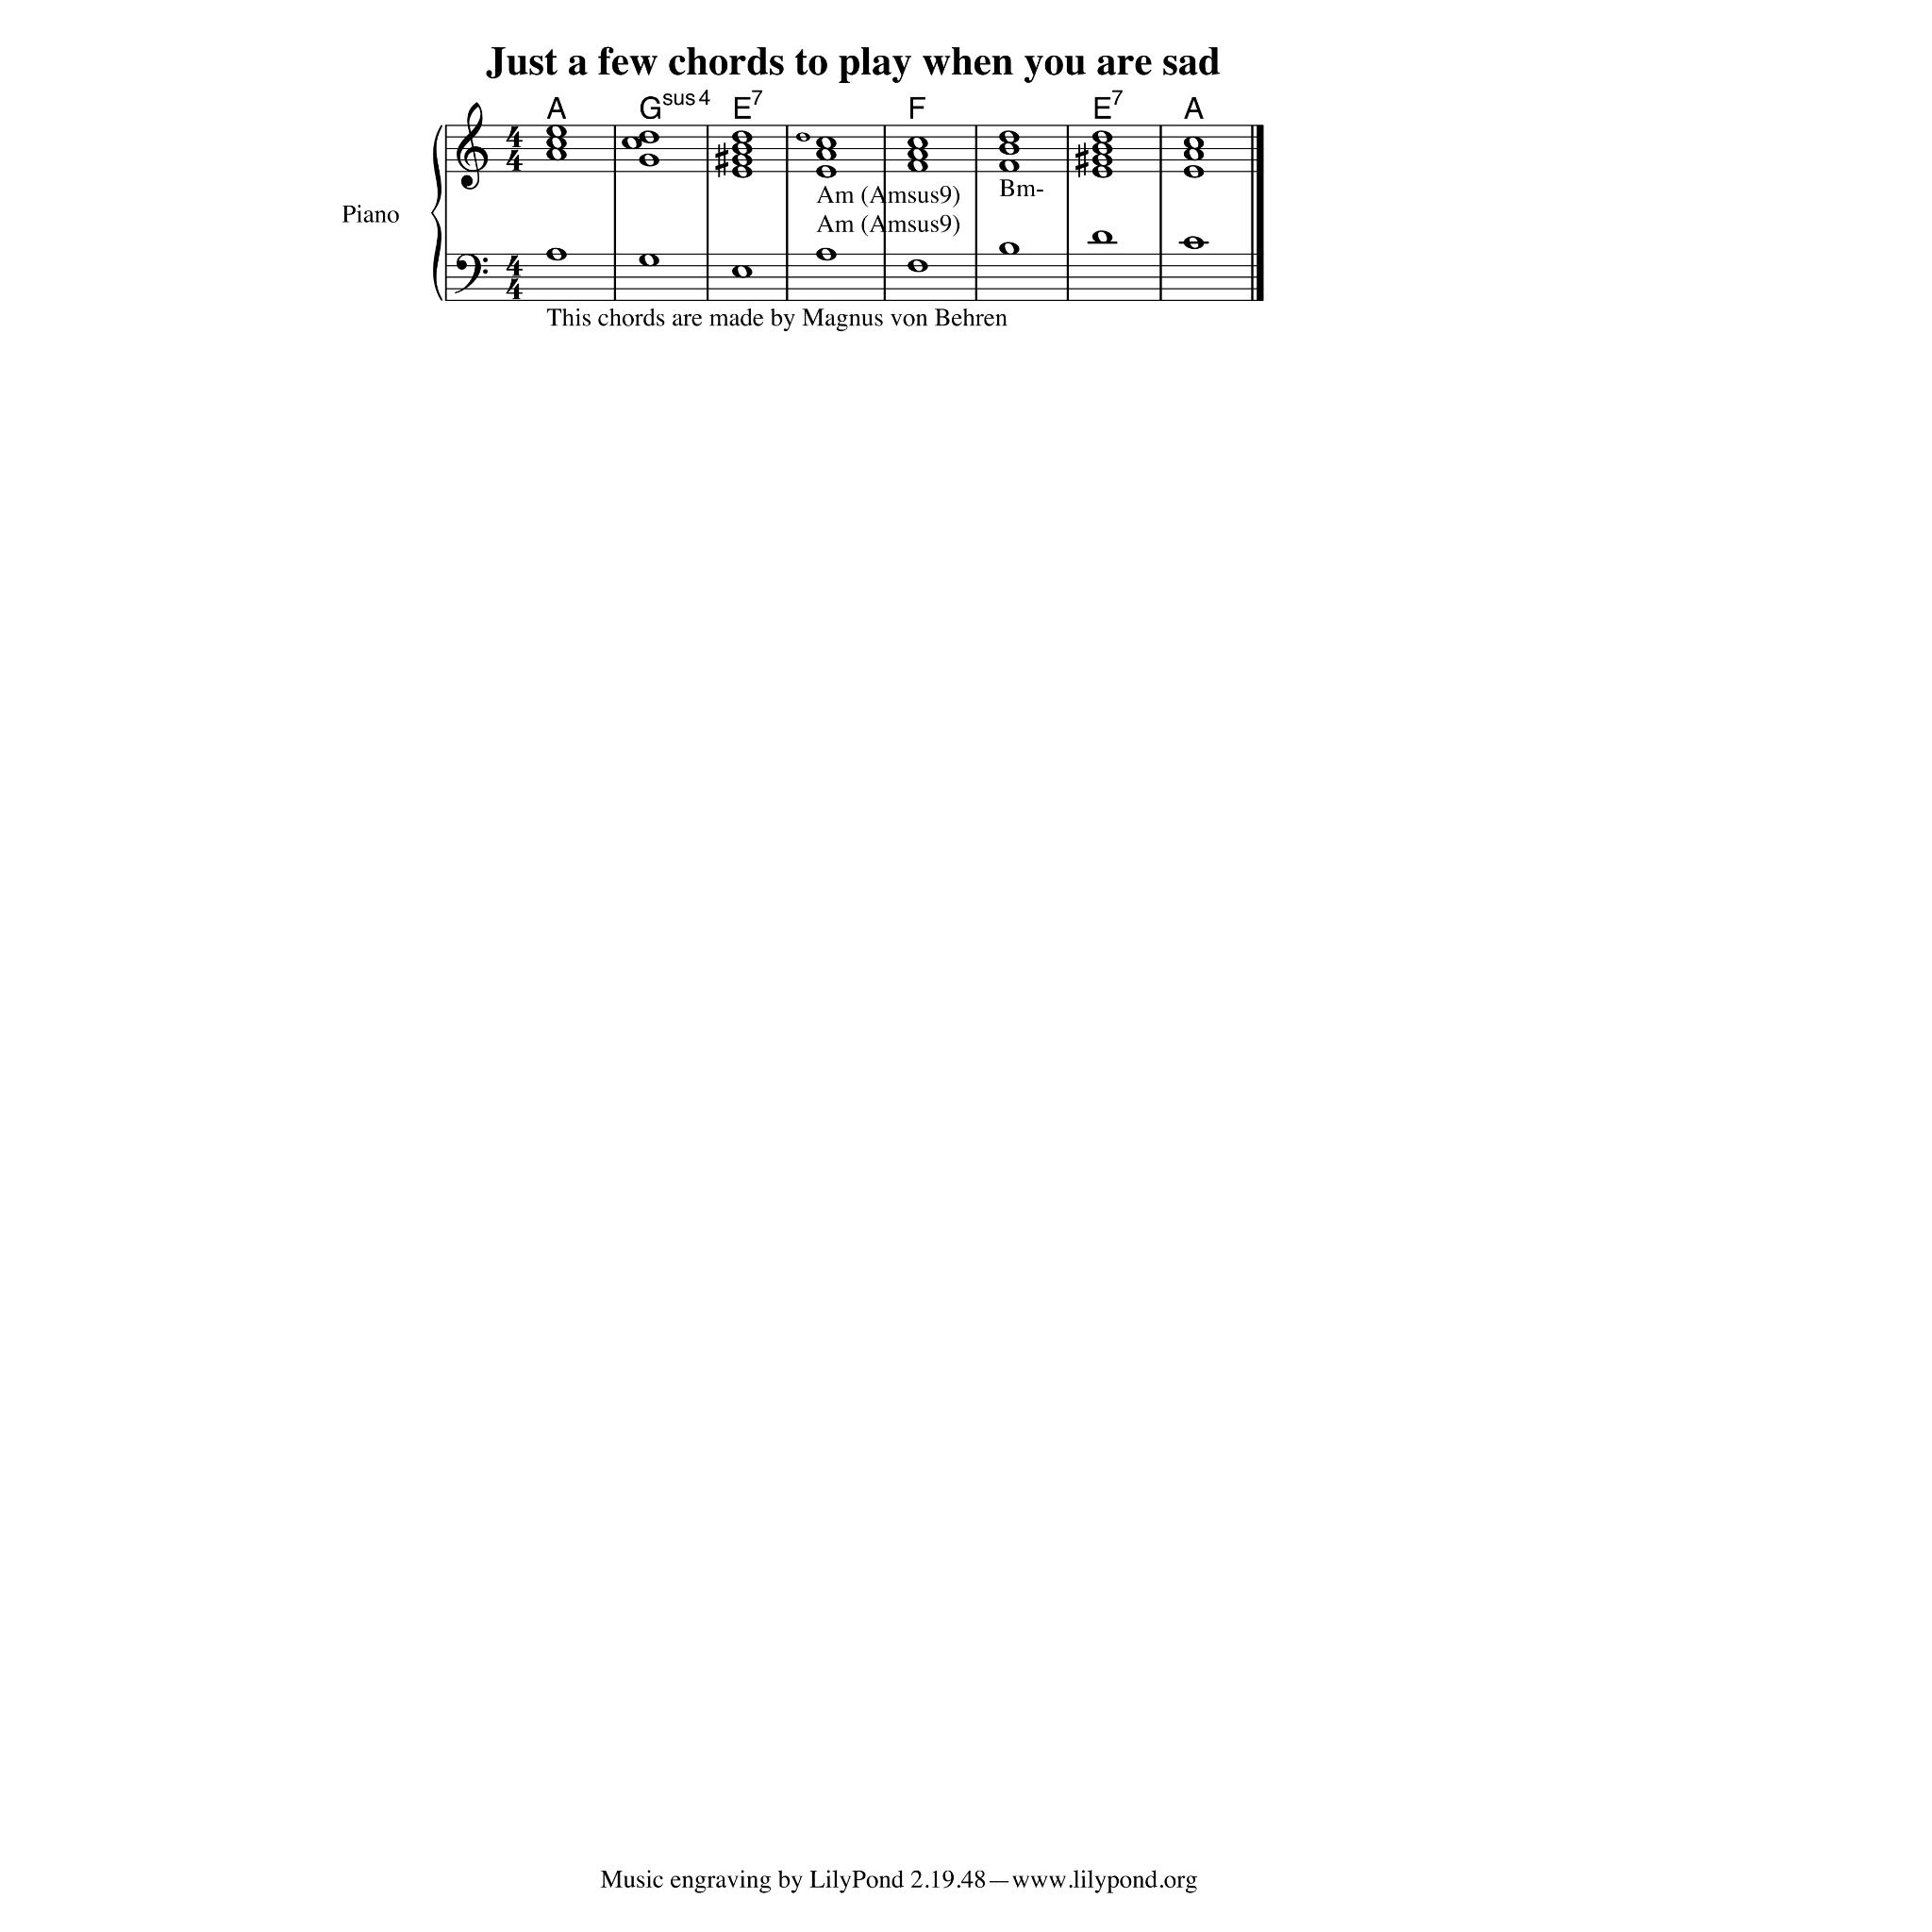brace: (430, 125, 441, 302)
fClef: (454, 255, 488, 294)
gClef: (456, 102, 488, 191)
noteheadWhole: (1091, 164, 1113, 179), (906, 258, 928, 274), (906, 136, 928, 151), (906, 147, 928, 162), (906, 158, 928, 174), (998, 130, 1021, 145), (998, 158, 1021, 174), (1091, 230, 1113, 245), (1091, 130, 1113, 145), (621, 136, 643, 151), (638, 130, 660, 145), (730, 164, 753, 179), (545, 136, 568, 151), (545, 147, 568, 162), (545, 247, 568, 262), (815, 247, 838, 262), (815, 136, 838, 151), (815, 147, 838, 162), (815, 164, 838, 179), (730, 264, 753, 279), (730, 130, 753, 145), (1183, 164, 1204, 179), (1183, 147, 1204, 162), (1183, 136, 1204, 151), (1183, 236, 1204, 251), (998, 242, 1021, 256), (998, 142, 1021, 156), (1091, 142, 1113, 156), (1091, 154, 1113, 167), (638, 254, 660, 267), (638, 154, 660, 167), (545, 125, 568, 139), (730, 142, 753, 156), (730, 154, 753, 167), (795, 132, 810, 143)
